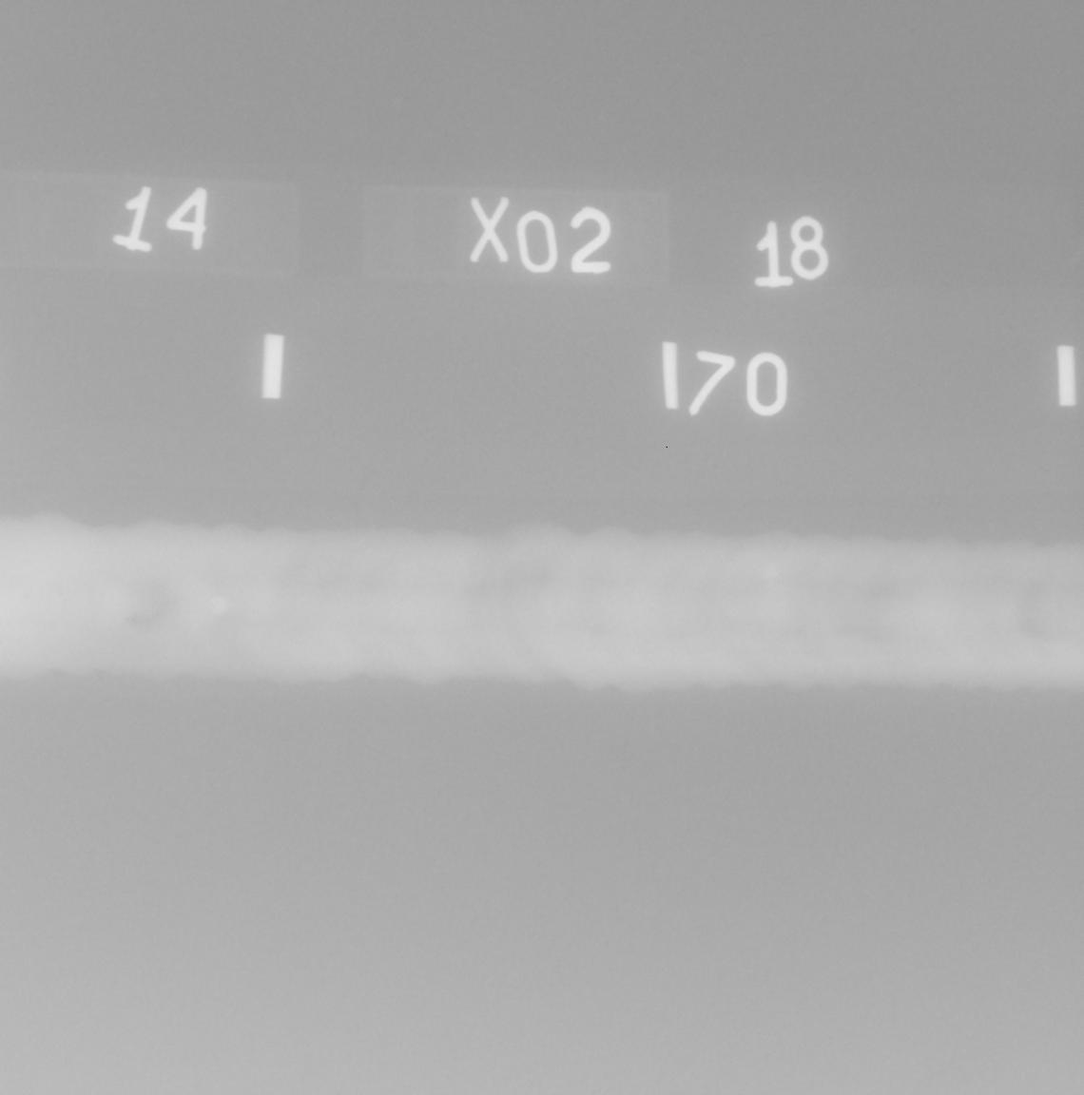Inclusion: (127, 617, 140, 624)
Pore/Porosity: (238, 589, 242, 593)
